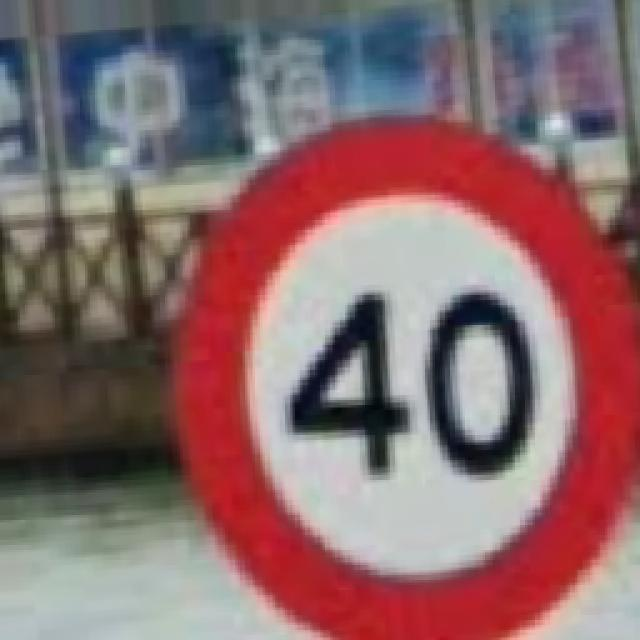Speed Limit -40-: (175, 115, 638, 638)
